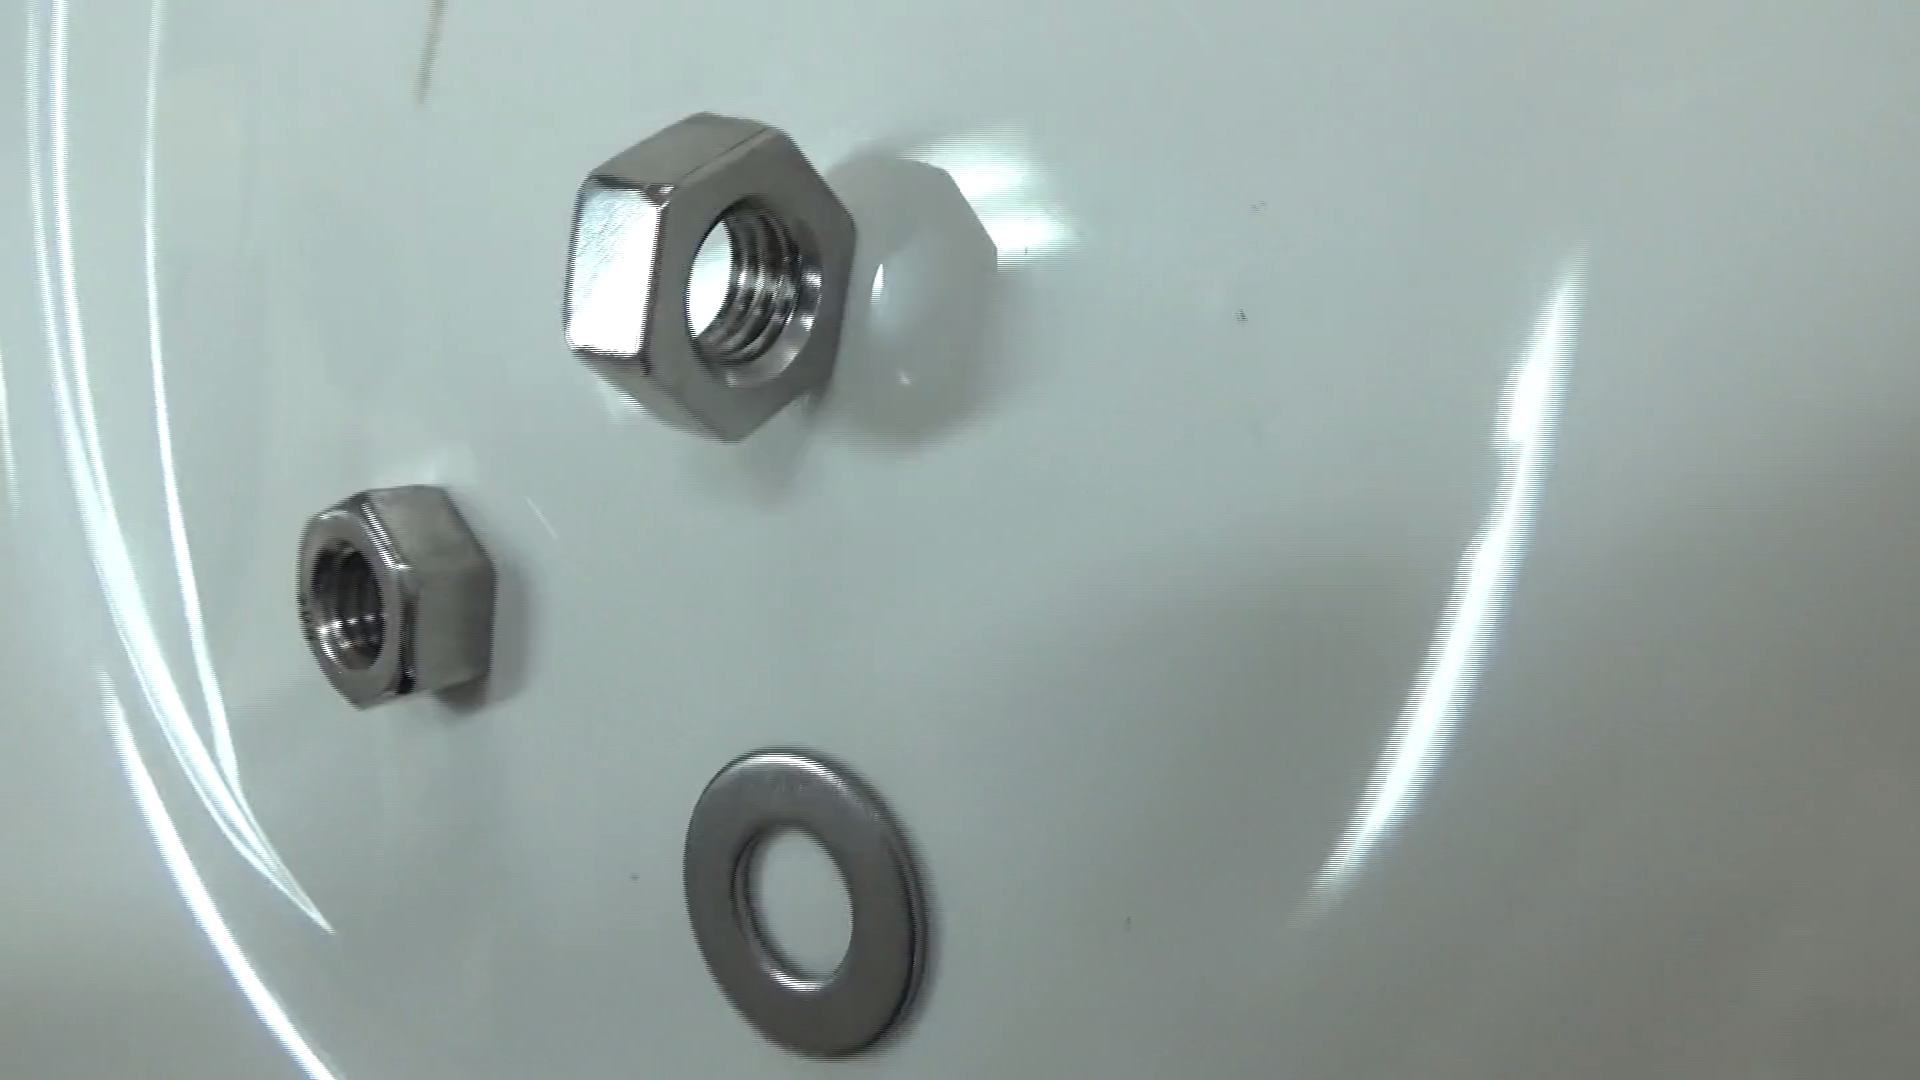nut: (538, 91, 876, 444), (266, 464, 512, 731)
washer: (651, 729, 953, 1069)
